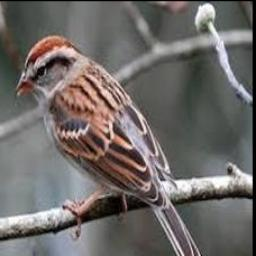Sparrow: (13, 35, 210, 256)
